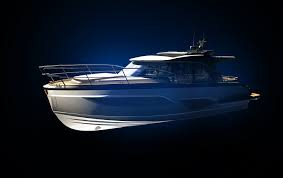boat: (38, 32, 262, 134)
